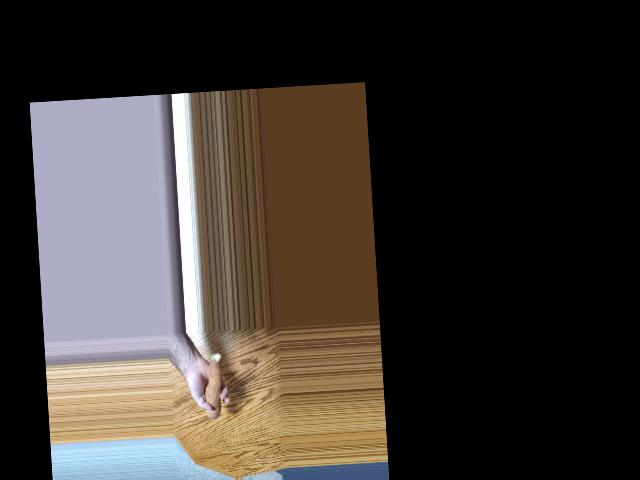sweet_potato: (201, 358, 226, 415)
